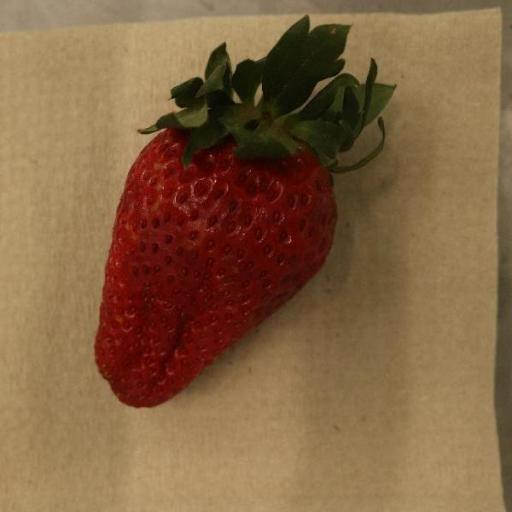Strawberry: (92, 18, 396, 409)
